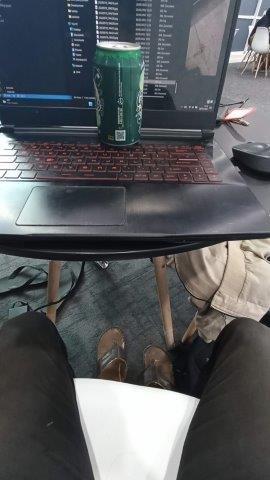kaleng: (93, 41, 144, 146)
